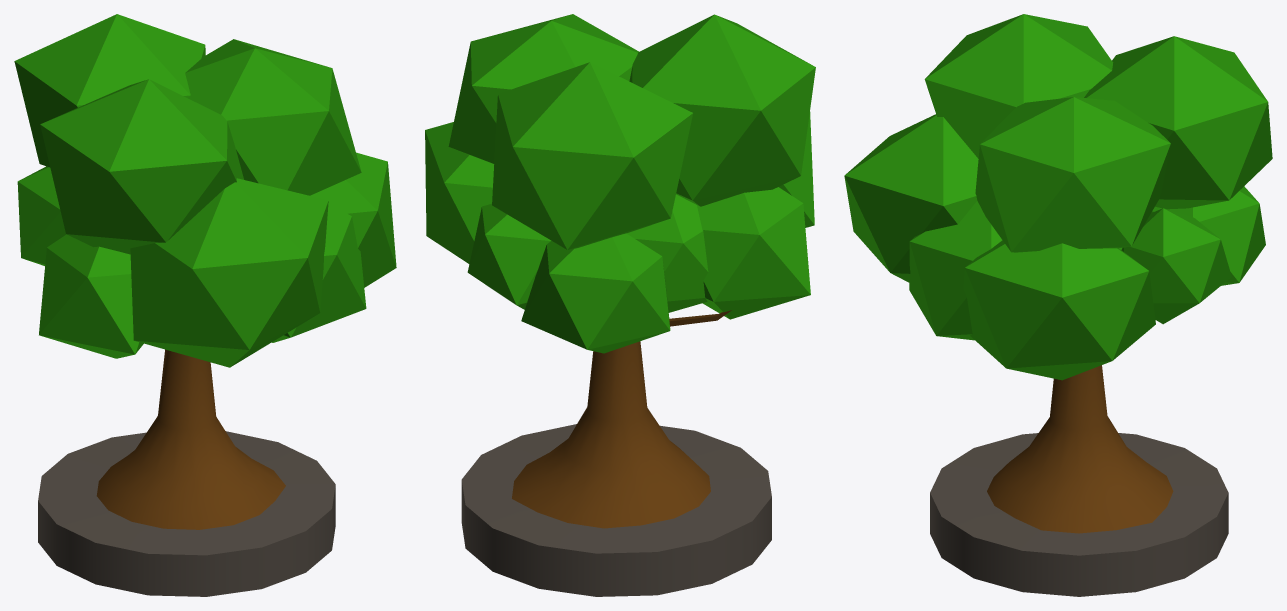
The model's file is Big_Tree.fbx.
The picture shows the model from 3 angles, left to right: view 1: azimuth 30°, elevation 25°; view 2: azimuth 150°, elevation 25°; view 3: azimuth 270°, elevation 25°; orthographic projection. The views are drawn at different scales.
Parts seen in each view (by area): view 1: Circle.002; view 2: Circle.002; view 3: Circle.002.
Part boxes in pixels (box(x1,y1,x2,y2)): Circle.002: box(14, 14, 396, 596); Circle.002: box(425, 14, 815, 596); Circle.002: box(844, 14, 1272, 596).
Size of the model in its own units: 905 by 1182 by 940.
